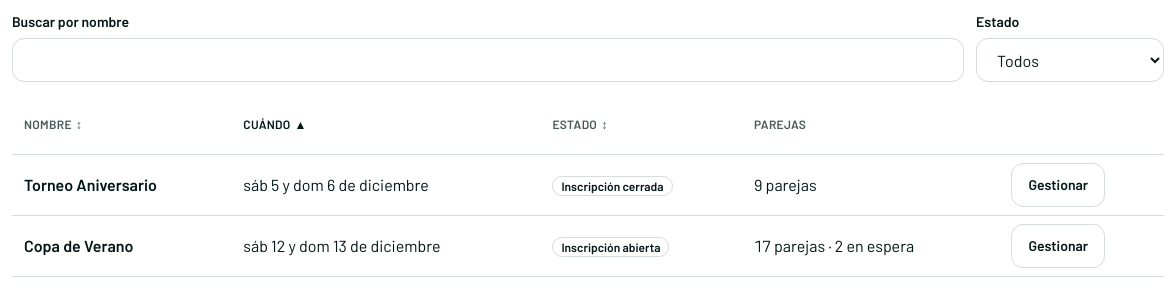
Test: EventsTable › filters by status, with the statuses it has
The image size is (1176, 294).
Select "Inscripción cerrada" in the dropdown labelled "Estado": (1070, 60) x1=976 y1=38 x2=1164 y2=82
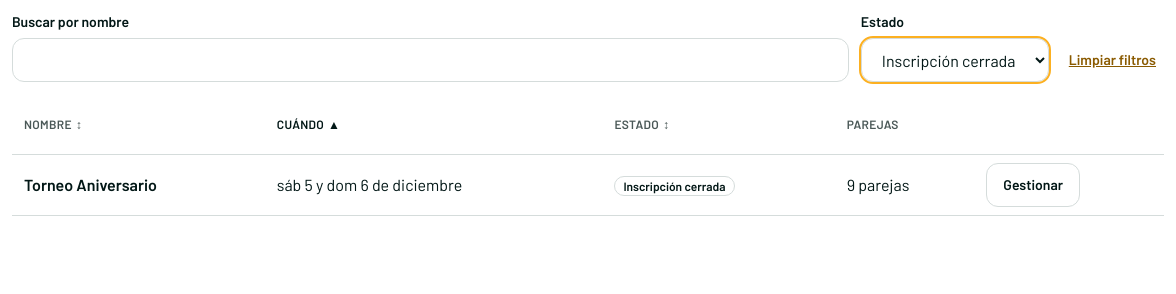
Expected: the cell "Torneo Aniversario" is shown, x1=12 y1=155 x2=265 y2=216
Expected: the text "Copa de Verano" is gone
